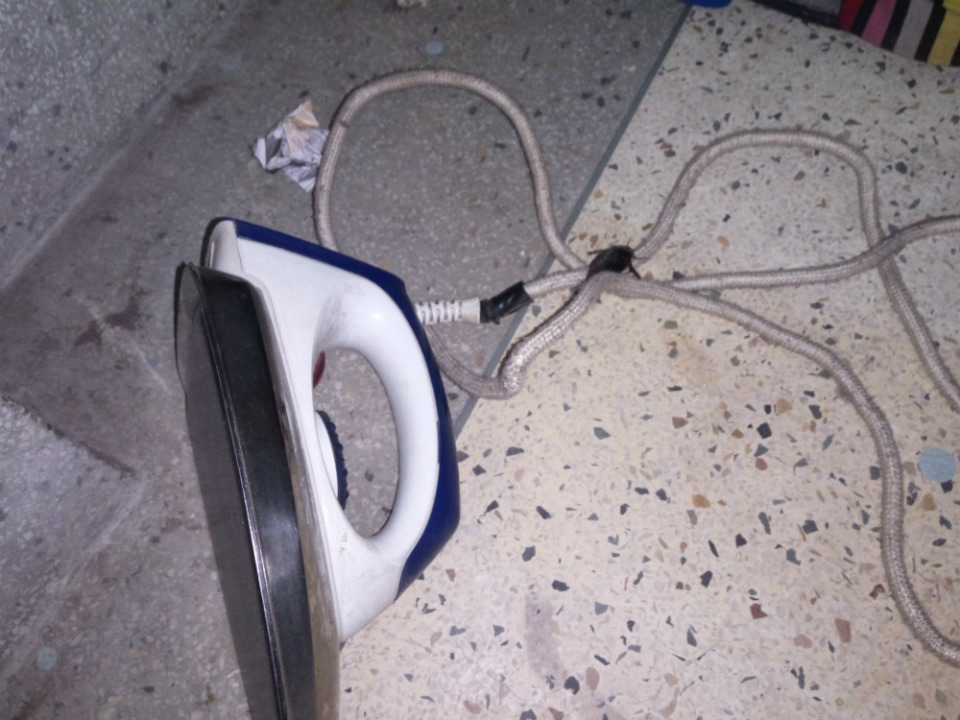cockroach: (558, 218, 651, 288)
